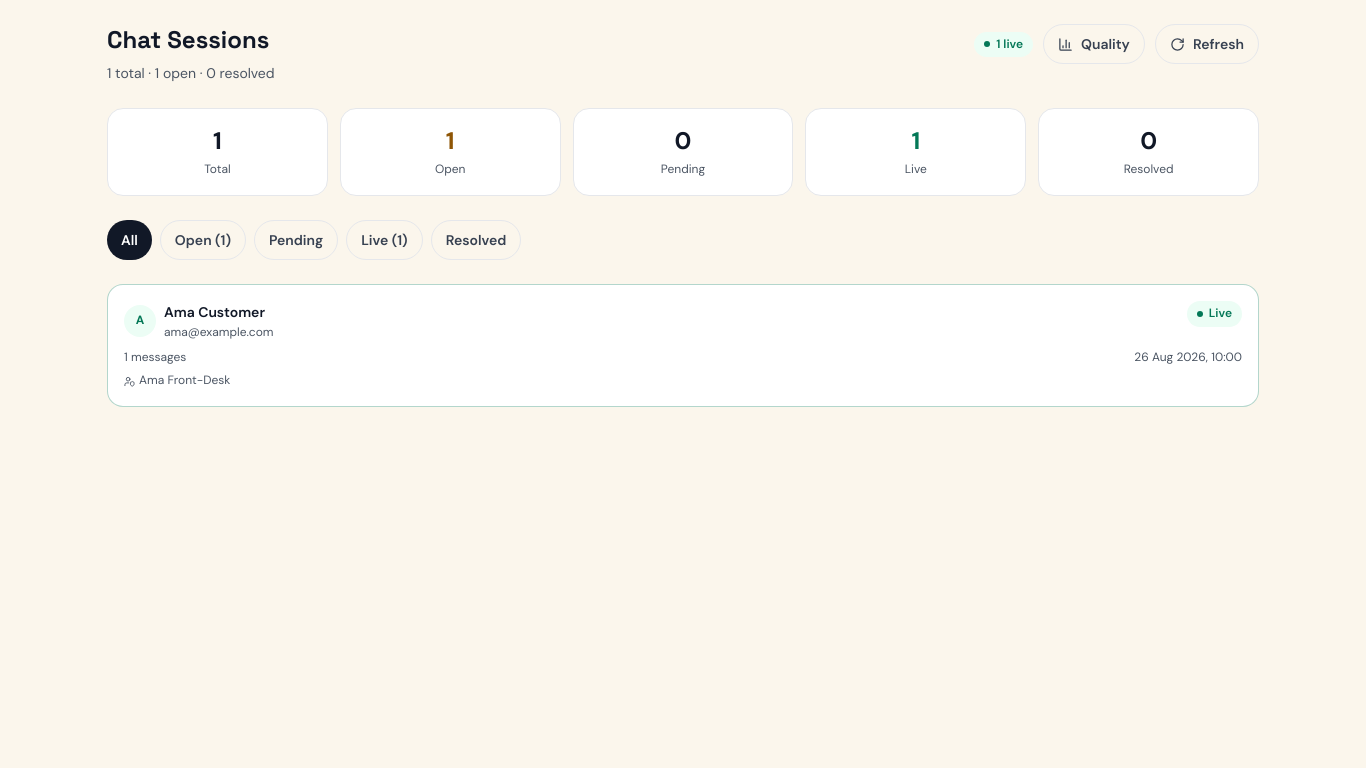
it: chat console — agent attribution (T69) › falls back to a generic label for replies stored before attribution existed
What coordinates should you click on to do the following:
click the button "Ama Customer"
I would click on:
 (140, 321)
Its box is [107, 284, 1259, 407].
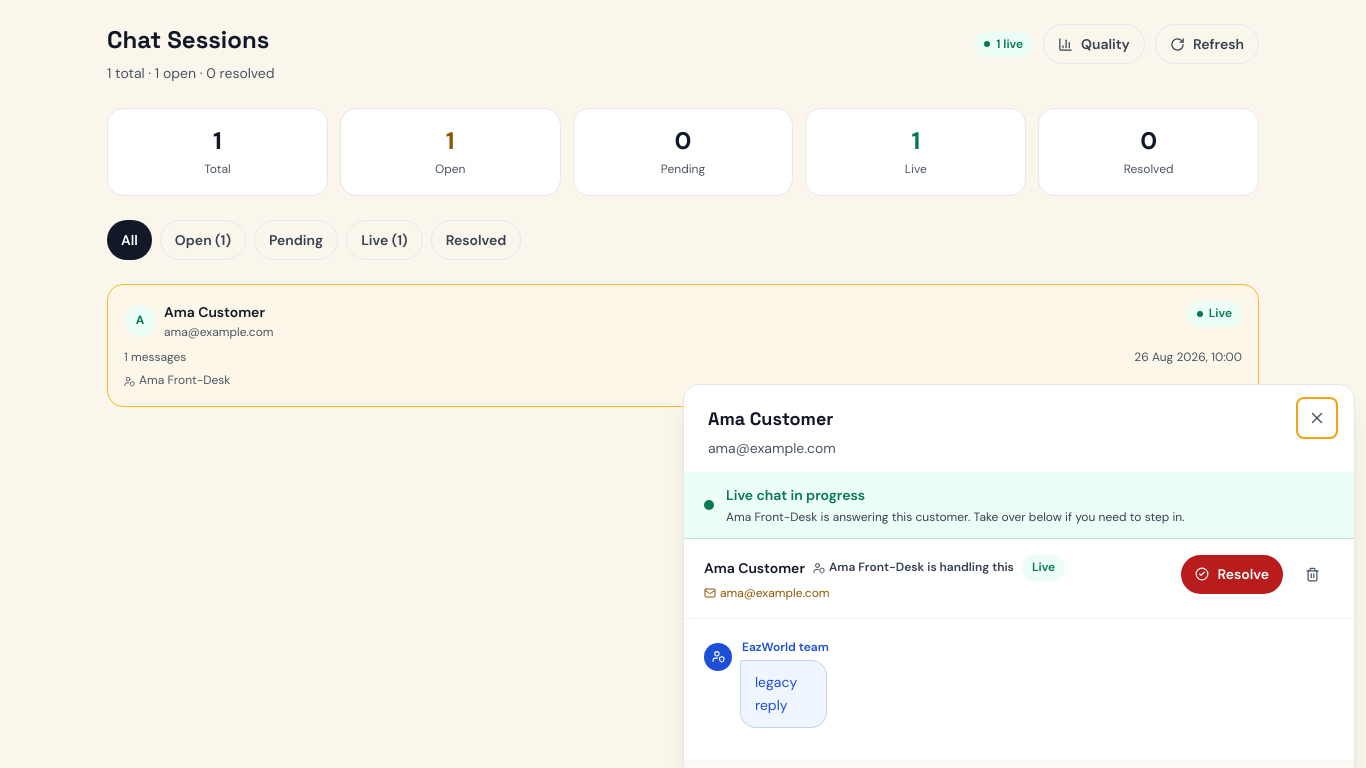
Check: the text "EazWorld team" is shown, box [742, 639, 829, 655]
